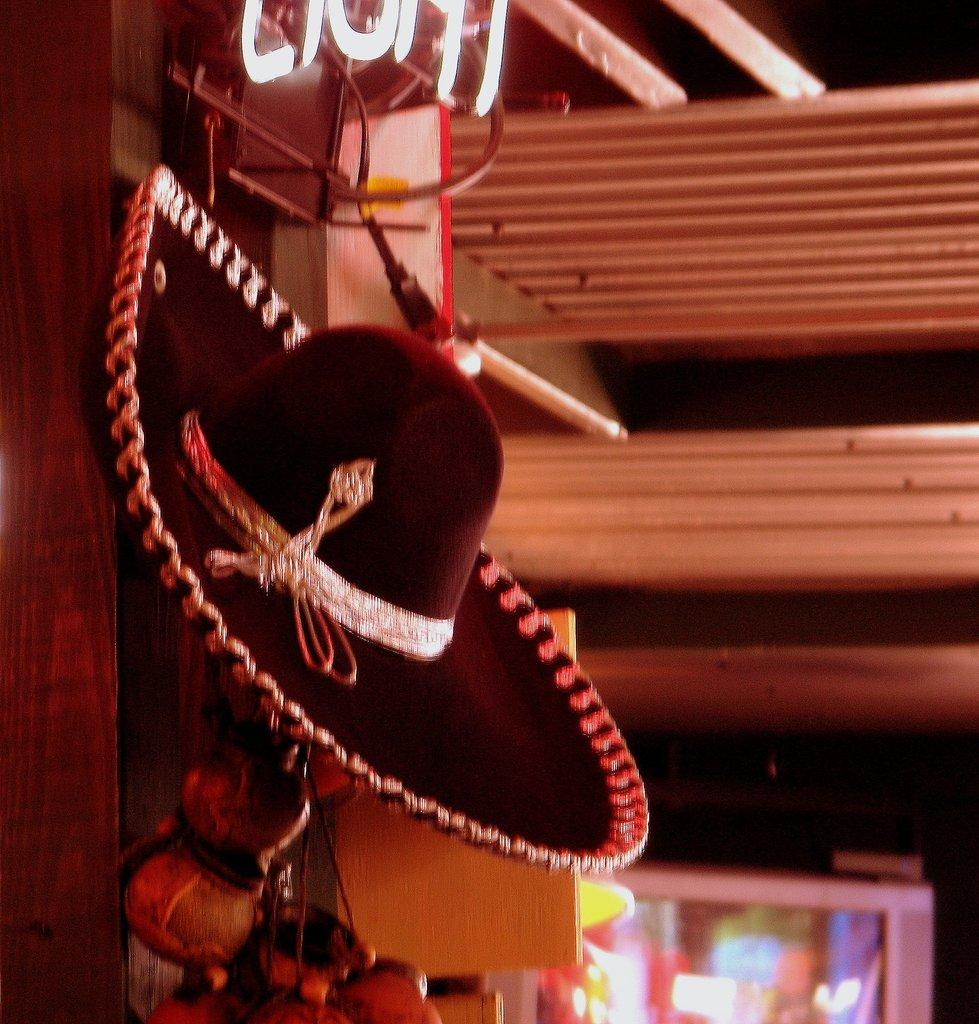Hat: (102, 162, 656, 872)
